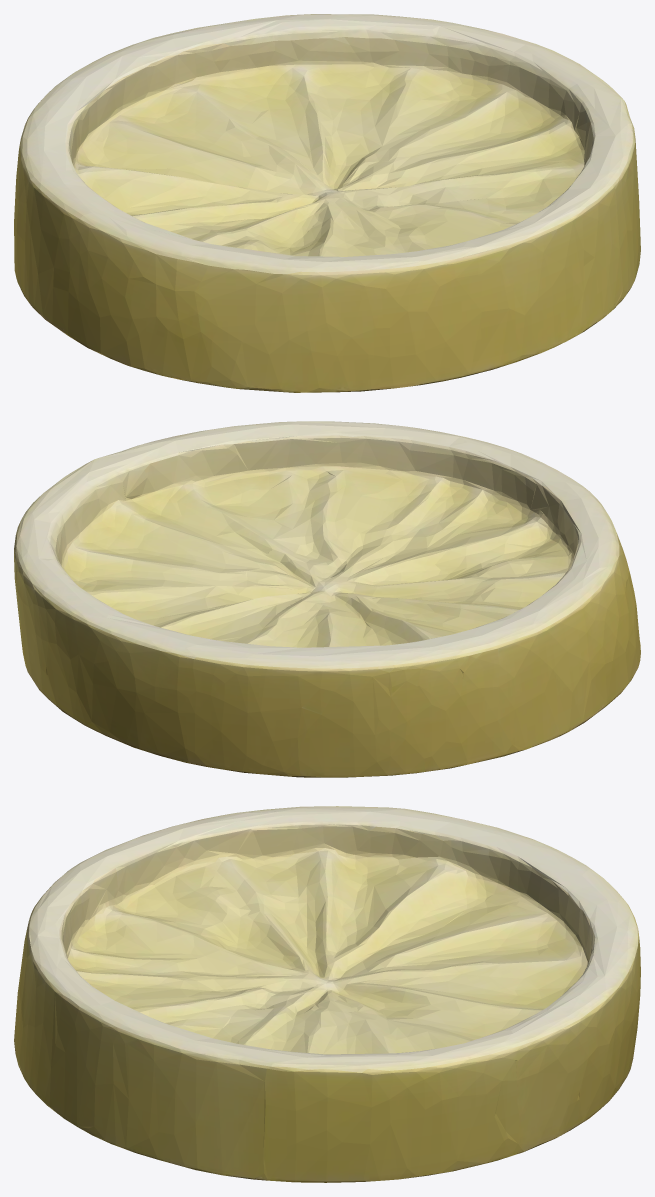
File: lemon_slice.glb
3 renders of one model, top to bottom at view 1: azimuth 30°, elevation 25°; view 2: azimuth 150°, elevation 25°; view 3: azimuth 270°, elevation 25°, orthographic. The views are drawn at different scales.
Parts seen in each view (by area): view 1: geometry_0; view 2: geometry_0; view 3: geometry_0.
Part boxes in pixels (x1,y1,x2,y2): geometry_0: (14, 14, 640, 392); geometry_0: (14, 421, 640, 777); geometry_0: (14, 806, 640, 1182).
Bounding box in the file's own units: 0.9993 × 0.2068 × 0.9798.
Materials: 1 (1 with a texture image).
